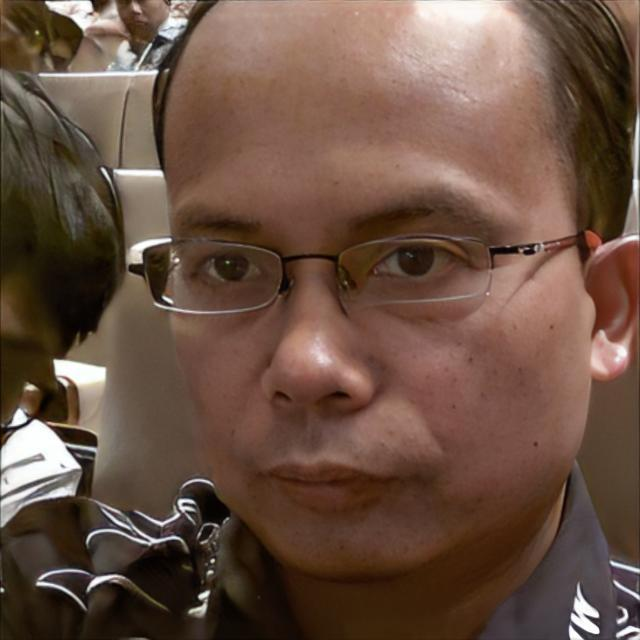anger: (160, 36, 578, 585)
